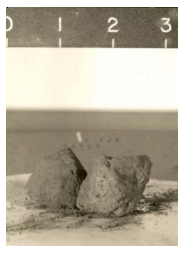Breccia: (25, 138, 166, 222)
